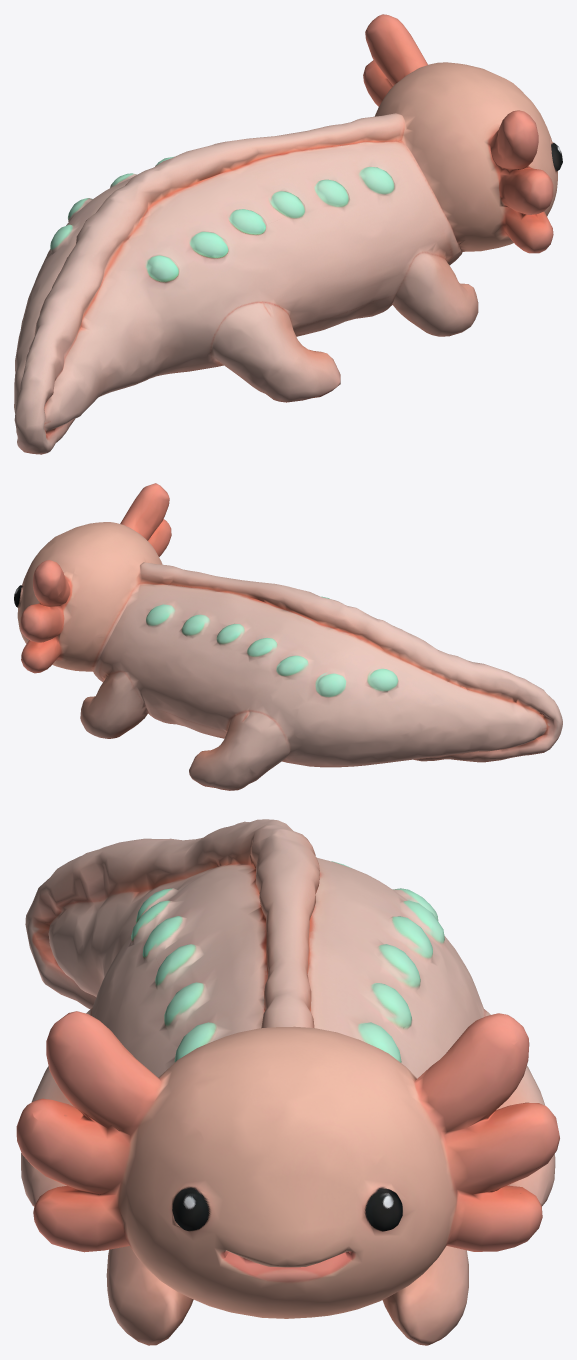
The model's file is lumi.glb.
3 views of the same model, one above another, from view 1: azimuth 30°, elevation 25°; view 2: azimuth 150°, elevation 25°; view 3: azimuth 270°, elevation 25° (orthographic). The views are drawn at different scales.
Parts seen in each view (by area): view 1: tripo_node_37d2dfc3-19a9-4060-8fd5-6ac827dad518; view 2: tripo_node_37d2dfc3-19a9-4060-8fd5-6ac827dad518; view 3: tripo_node_37d2dfc3-19a9-4060-8fd5-6ac827dad518.
Boxes of the visible parts, x1,y1,x2,y2 form: tripo_node_37d2dfc3-19a9-4060-8fd5-6ac827dad518: (14,14,562,454); tripo_node_37d2dfc3-19a9-4060-8fd5-6ac827dad518: (14,483,562,790); tripo_node_37d2dfc3-19a9-4060-8fd5-6ac827dad518: (16,819,559,1345).
Size of the model in its own units: 1 by 0.3565 by 0.494.
1 material, 1 textured.
